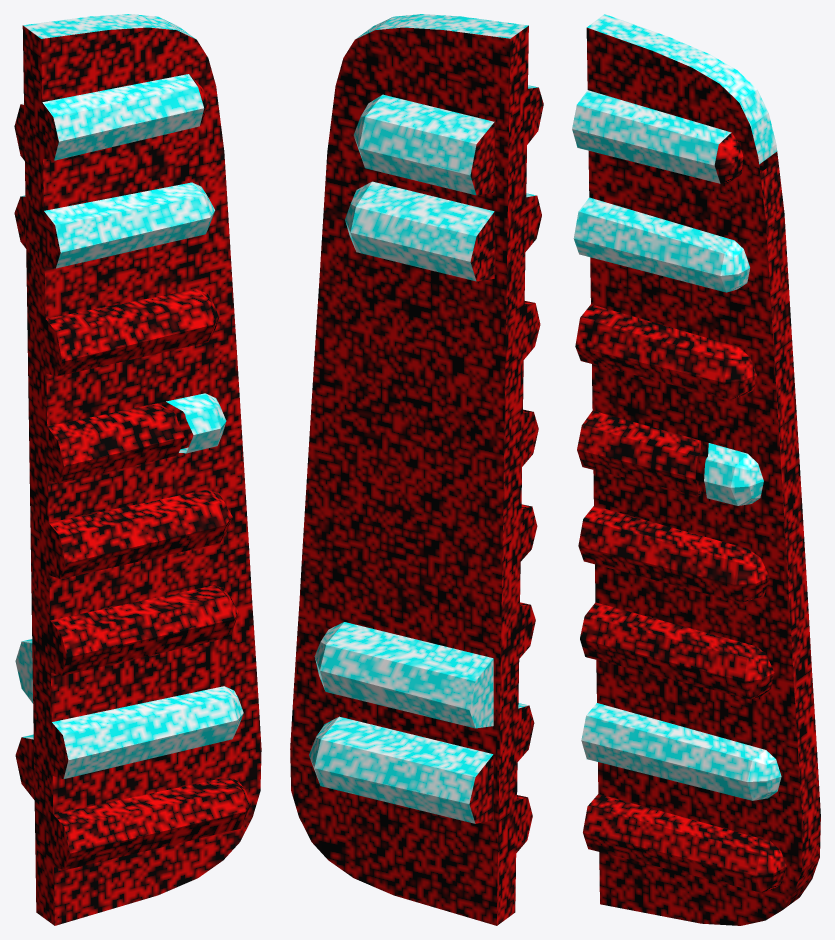
The model's file is SM_Raxasia_Shield_L_KMH.fbx.
3 views of the same model, side by side, from view 1: azimuth 30°, elevation 25°; view 2: azimuth 150°, elevation 25°; view 3: azimuth 330°, elevation 25° (orthographic).
Parts seen in each view (by area): view 1: SM_Raxasia_Shield_L_KMH; view 2: SM_Raxasia_Shield_L_KMH; view 3: SM_Raxasia_Shield_L_KMH.
Part boxes in pixels (left/top/right/bottom): SM_Raxasia_Shield_L_KMH: left=14, top=14, right=261, bottom=925; SM_Raxasia_Shield_L_KMH: left=290, top=14, right=543, bottom=925; SM_Raxasia_Shield_L_KMH: left=572, top=14, right=820, bottom=925.
Bounding box in the file's own units: 21.64 × 83.56 × 10.02.
